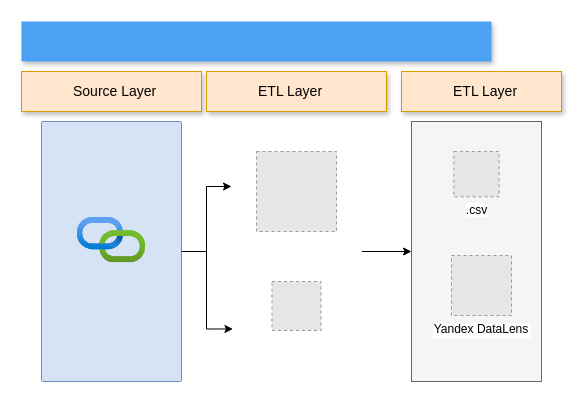
Some shapes in this 585 by 399 pixel diagram are drawn without their labels. Grey dashed boxes stand in for pictures. The centre of each missing label's shape, as x and y in pixels:
"api kaggle" belongs at [111,239].
"Верхнеуровневая архитектура" belongs at [257,42].
